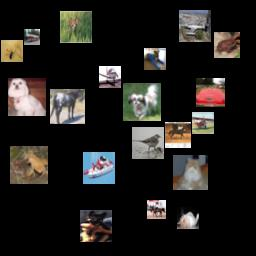airplane: (179, 10, 211, 42), (99, 66, 121, 88), (192, 112, 214, 134)
automobile: (196, 78, 225, 107)
bird: (132, 127, 164, 159)
cat: (173, 155, 208, 190), (1, 40, 23, 62), (177, 207, 199, 229)
deer: (60, 11, 92, 43)
dog: (8, 78, 46, 116), (123, 83, 161, 121), (80, 210, 112, 242), (144, 48, 166, 70)
frog: (10, 146, 48, 184), (214, 32, 240, 58)
ship: (83, 152, 115, 184)
truck: (24, 29, 40, 45)
